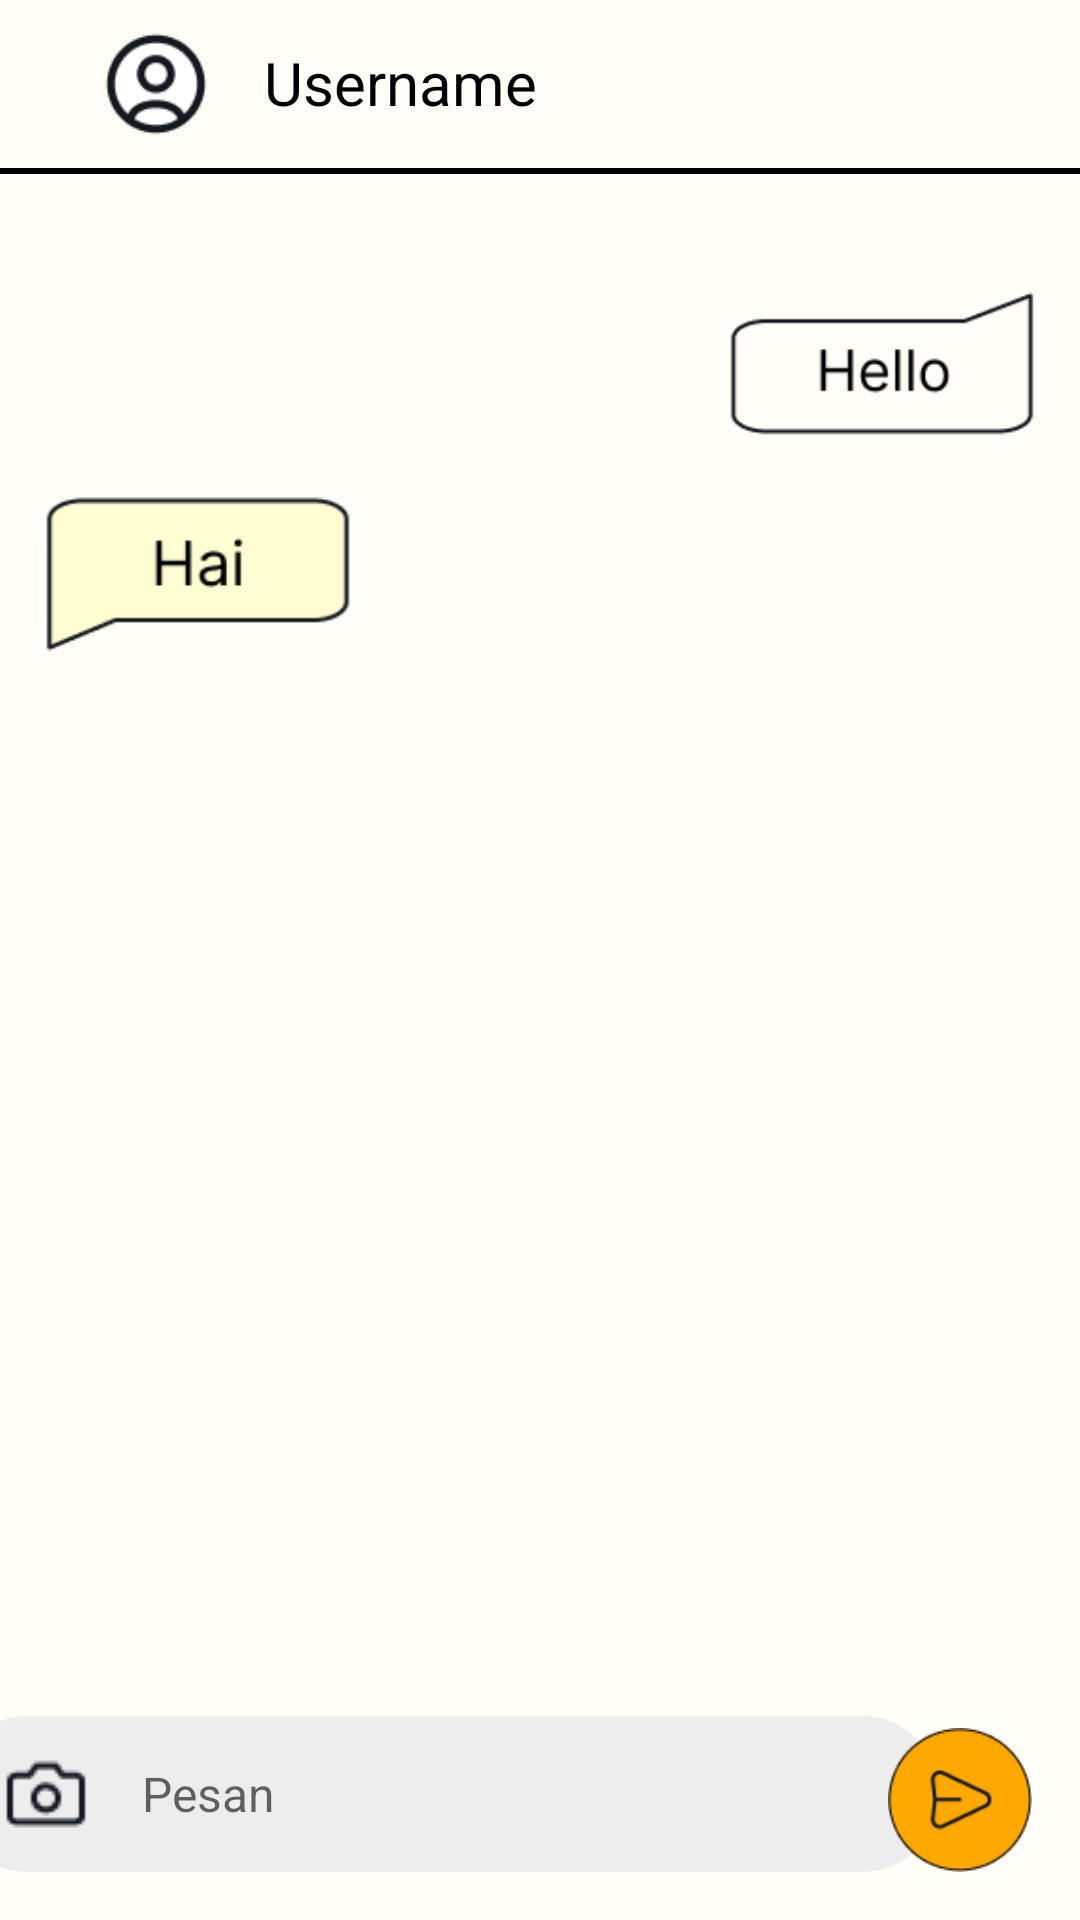

Screen size 1080px×1920px. Icon name, then its box in pixels as (x1, y1, x2, y2):
send: (888, 1728, 1032, 1872)
